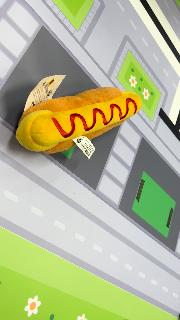hotdog: (15, 86, 142, 156)
